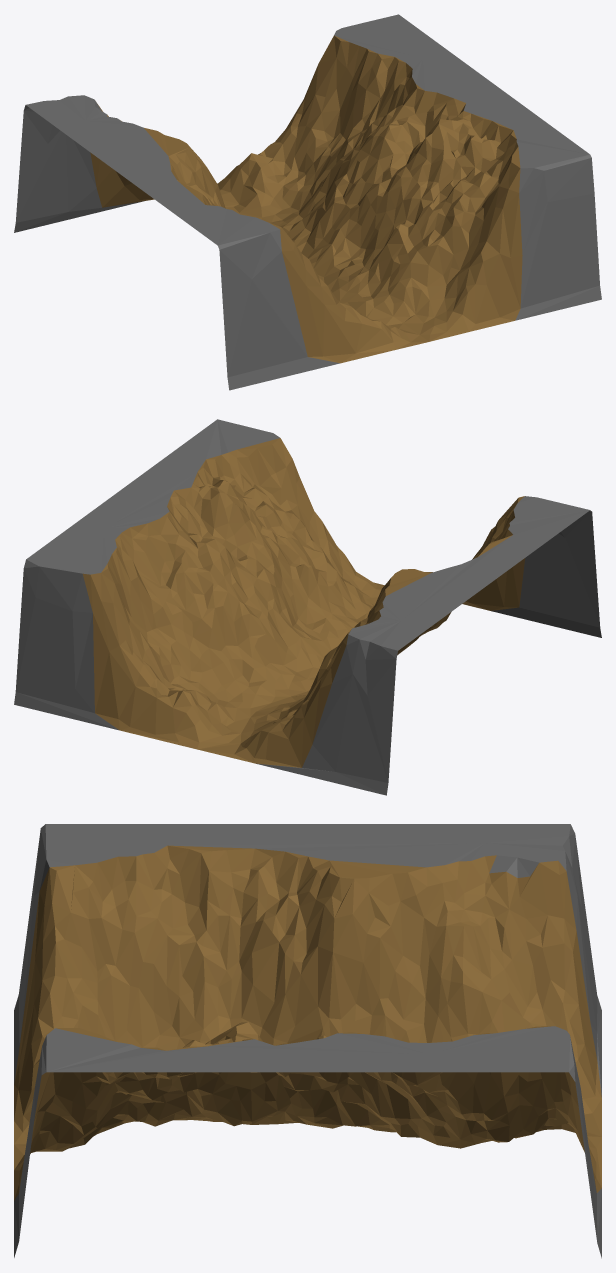
File: Terrain_23.fbx
3 renders of one model, top to bottom at view 1: azimuth 30°, elevation 25°; view 2: azimuth 150°, elevation 25°; view 3: azimuth 270°, elevation 25°, orthographic. The views are drawn at different scales.
Visible parts, largest first — view 1: Terrain_23; view 2: Terrain_23; view 3: Terrain_23.
Part boxes in pixels (x1,y1,x2,y2): Terrain_23: (14,14,601,390); Terrain_23: (14,419,601,795); Terrain_23: (14,824,601,1258).
Size of the model in its own units: 20001 by 7018 by 20002.
